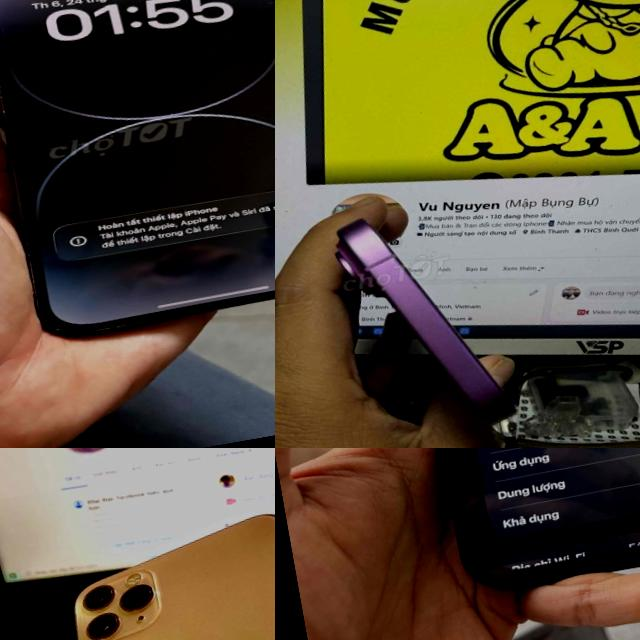gen_11: (31, 498, 275, 640)
gen_12_13: (369, 448, 640, 617)
gen_14: (0, 0, 275, 354)
gen_16: (322, 179, 548, 448)
